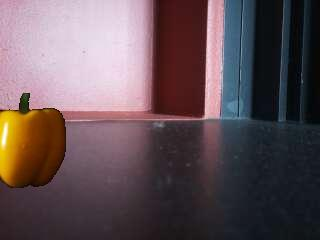Capsicum: (0, 92, 68, 190)
